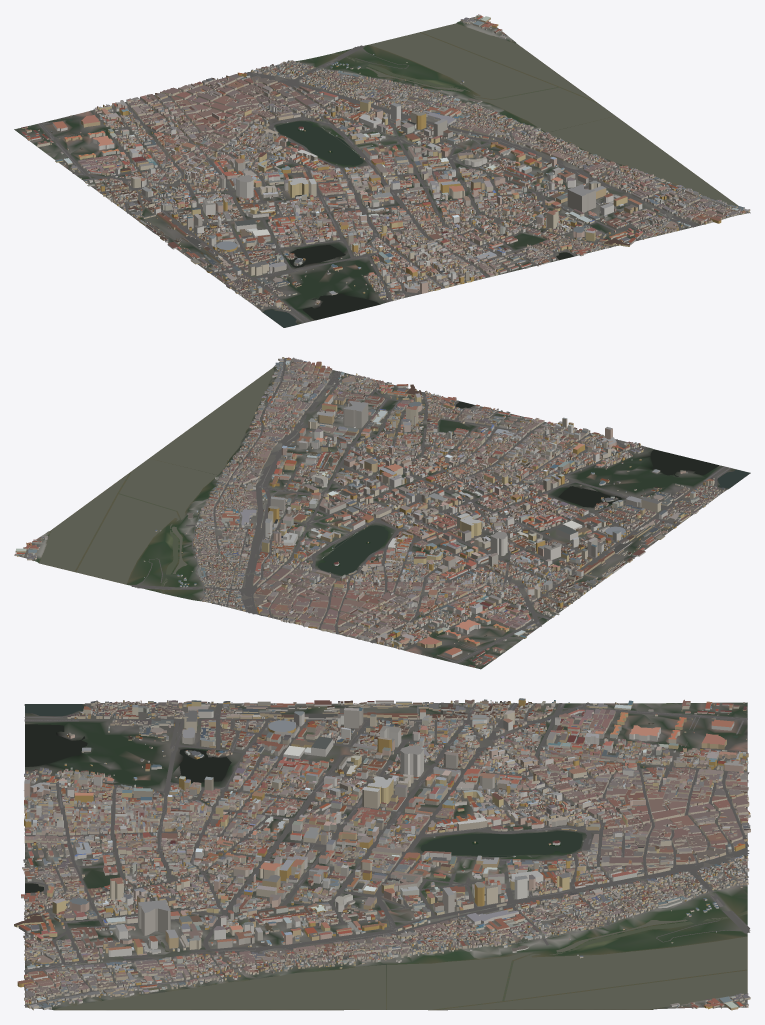
3 views of the same model, one above another, from view 1: azimuth 30°, elevation 25°; view 2: azimuth 150°, elevation 25°; view 3: azimuth 270°, elevation 25° (orthographic). The views are drawn at different scales.
Parts seen in each view (by area): view 1: buildings, ground, water, roads; view 2: buildings, ground, water, roads; view 3: buildings, ground, water, roads.
Boxes of the visible parts, x1=… form: buildings: x1=16, y1=14, x2=750, y2=311; ground: x1=14, y1=15, x2=750, y2=327; water: x1=68, y1=23, x2=738, y2=327; roads: x1=38, y1=28, x2=749, y2=323; buildings: x1=14, y1=357, x2=724, y2=668; ground: x1=15, y1=359, x2=750, y2=669; water: x1=39, y1=368, x2=750, y2=654; roads: x1=32, y1=358, x2=730, y2=663; buildings: x1=14, y1=698, x2=750, y2=1010; ground: x1=24, y1=702, x2=747, y2=1010; water: x1=25, y1=704, x2=747, y2=1009; roads: x1=24, y1=702, x2=750, y2=1007.
Bounding box in the file's own units: 2840 × 110 × 2859.
